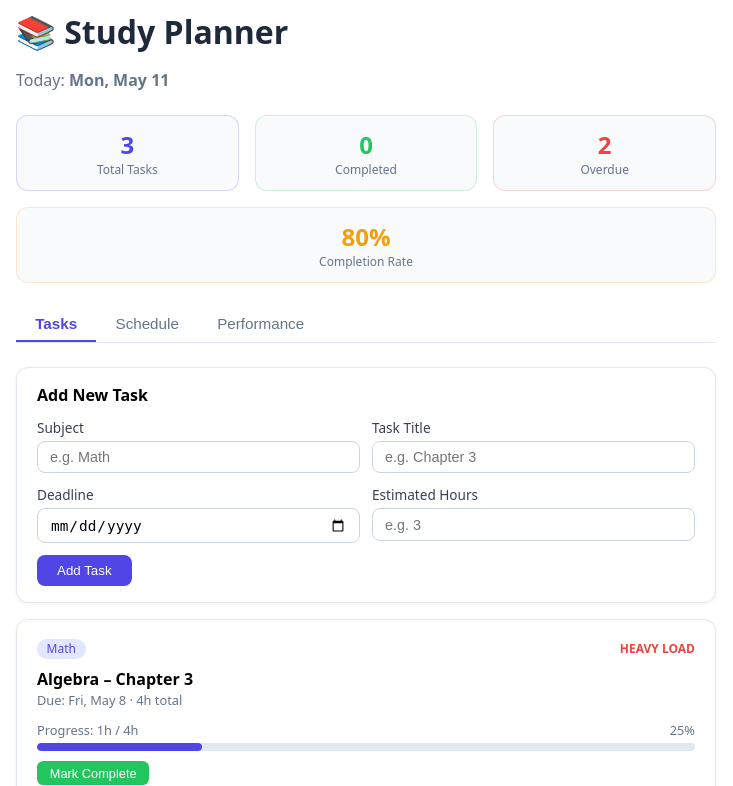
StudentDashboard integration › marks a pending task complete and displays done state
The width and height of the screenshot is (733, 786).
Click the button "Mark Complete".
click(93, 773)  # box [37,761,149,785]
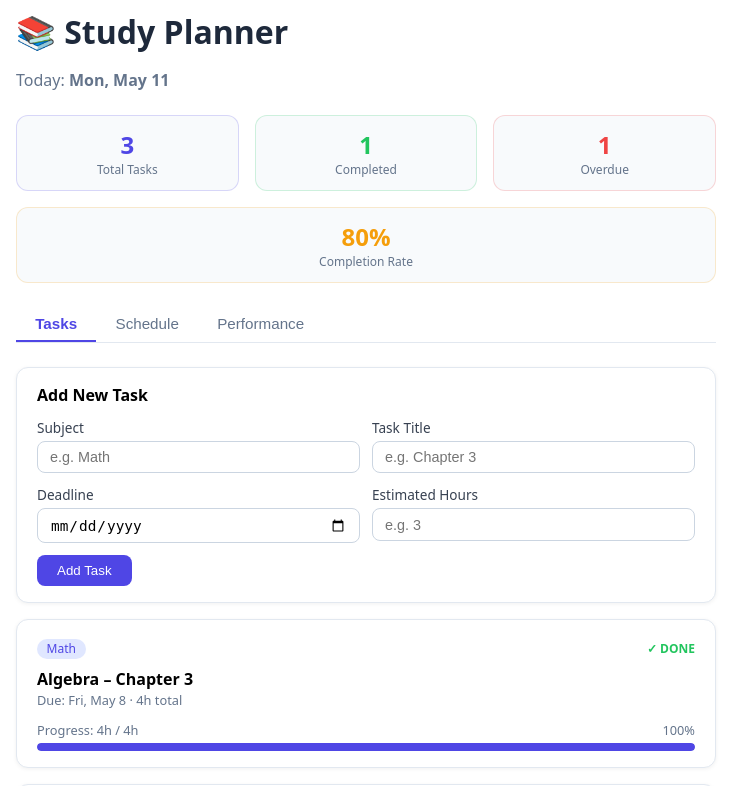
Expected: the text "✓ DONE" is shown, [647,640,695,657]
